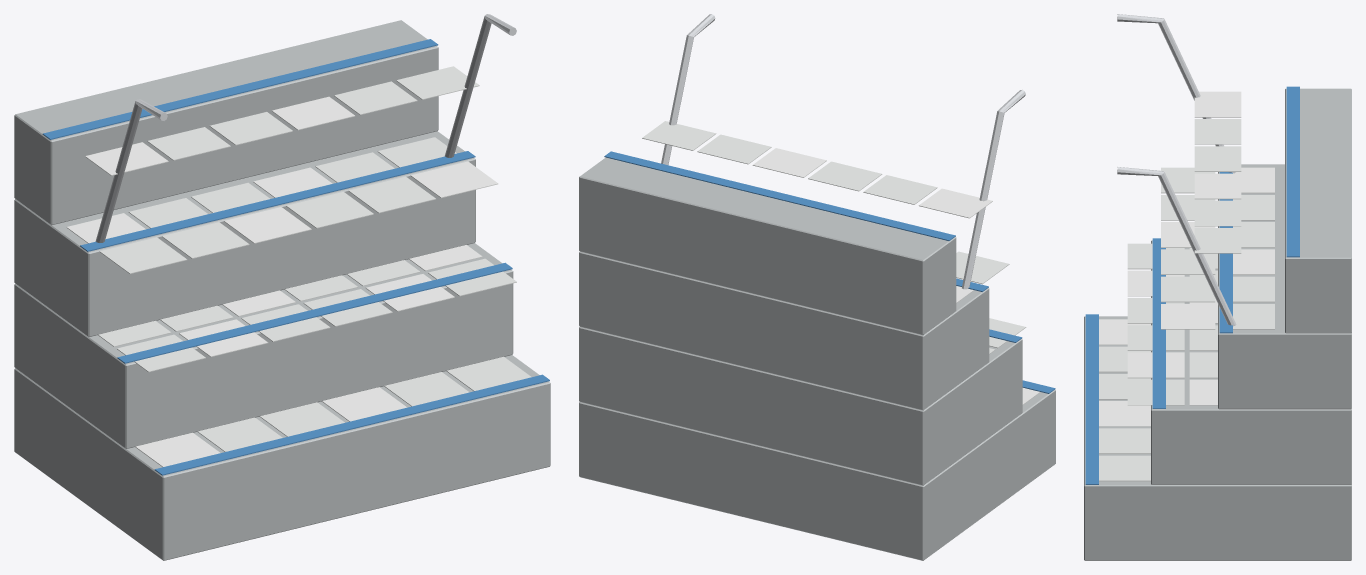
File: public-swimming-baths-and-poolside-shallow-end-steps-b47cb87d__35248.glb
3 views of the same model, side by side, from view 1: azimuth 30°, elevation 25°; view 2: azimuth 150°, elevation 25°; view 3: azimuth 270°, elevation 25° (orthographic). The views are drawn at different scales.
Visible parts, largest first — view 1: shallow-end-steps; view 2: shallow-end-steps; view 3: shallow-end-steps.
Part boxes in pixels (x1,y1,x2,y2): shallow-end-steps: (14, 14, 550, 560); shallow-end-steps: (579, 14, 1055, 560); shallow-end-steps: (1084, 14, 1351, 560).
Bounding box in the file's own units: 2.4 × 2.54 × 1.6.
